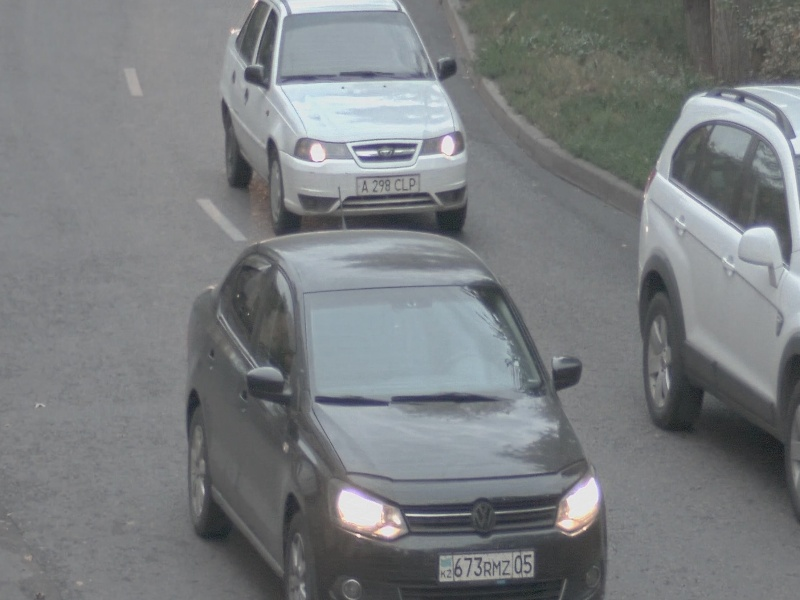plate: (438, 549, 536, 583), (356, 172, 421, 196)
